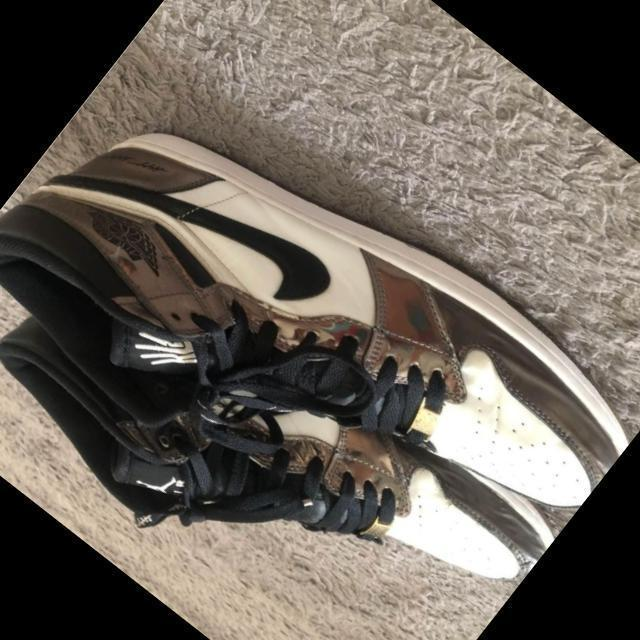nike fake jordan 1: (0, 16, 640, 640), (0, 179, 563, 640)
